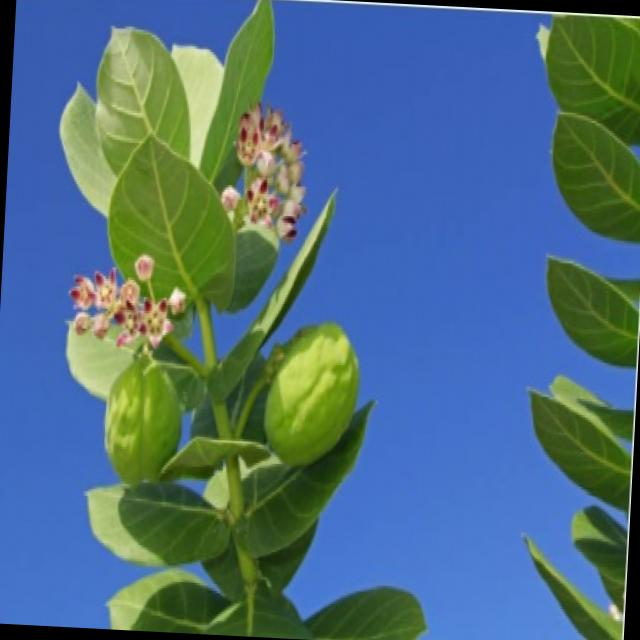Poisonous-Calatropis: (51, 0, 399, 558)
